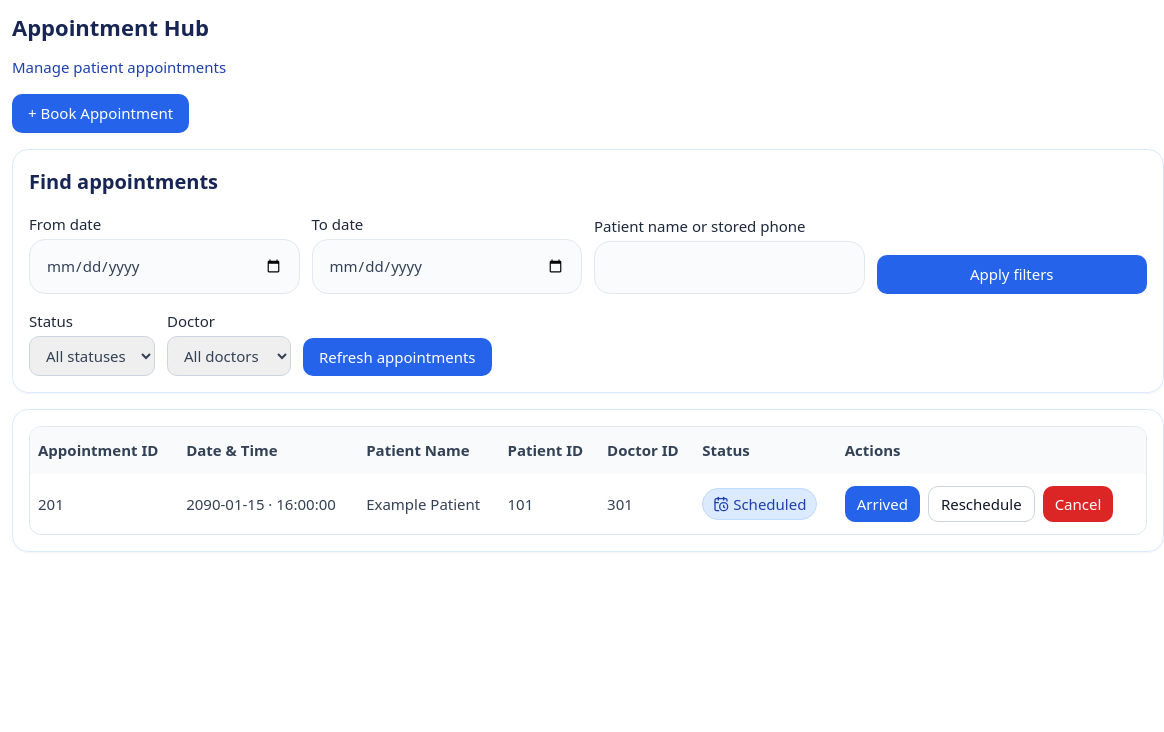
it: ADM-05 appointment hub › refreshes after a failed arrival and retains the Scheduled actions
Click the button with aria-label "Mark appointment 201 arrived". click: {"x": 882, "y": 504}
box: [845,486,920,522]
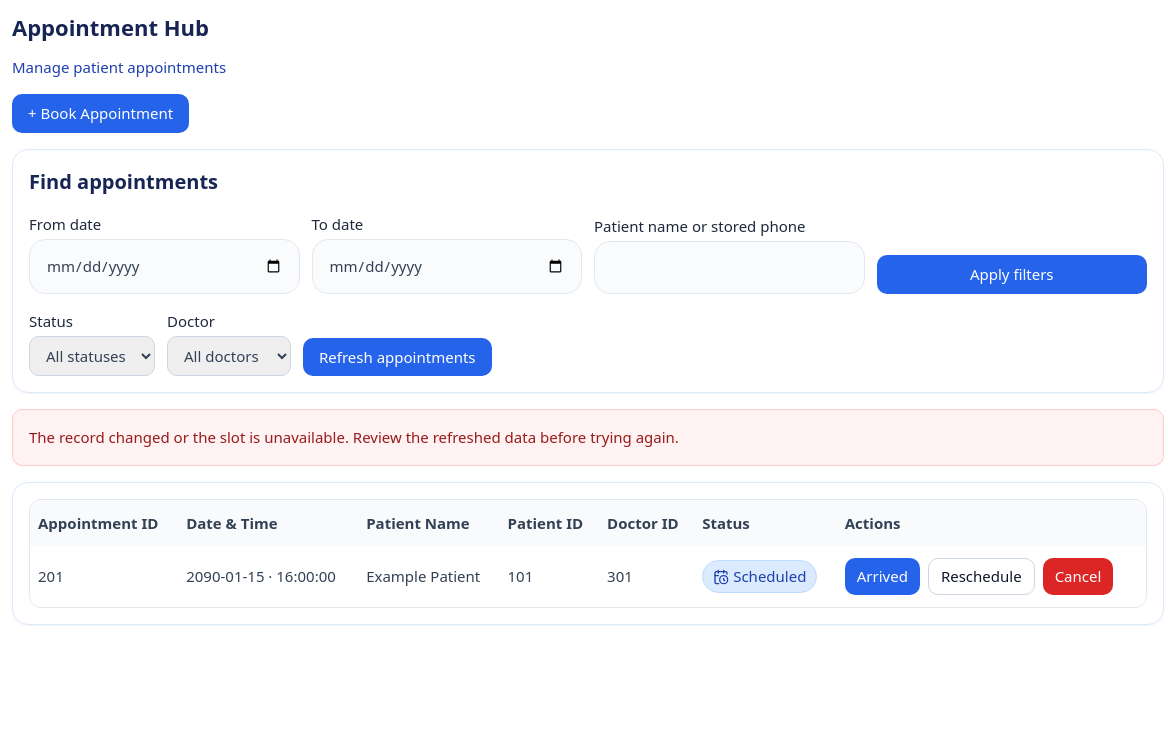
Expected: the button with aria-label "Mark appointment 201 arrived" is enabled, [845,558,920,595]
Now the message is shown, box [12,409,1163,466]
